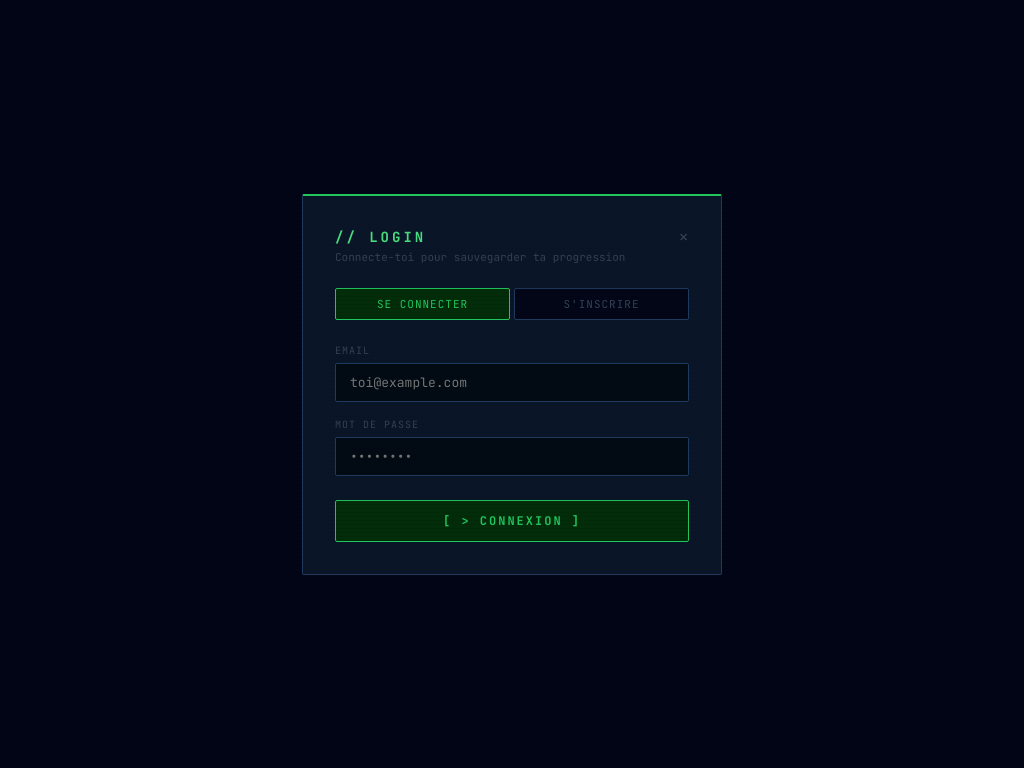
Test: AuthModal — login › affiche l'erreur API en cas d'échec
Type "x@x.com" into the field with placeholder "toi@example.com" at {"x": 512, "y": 382}, box [335,362,689,402]
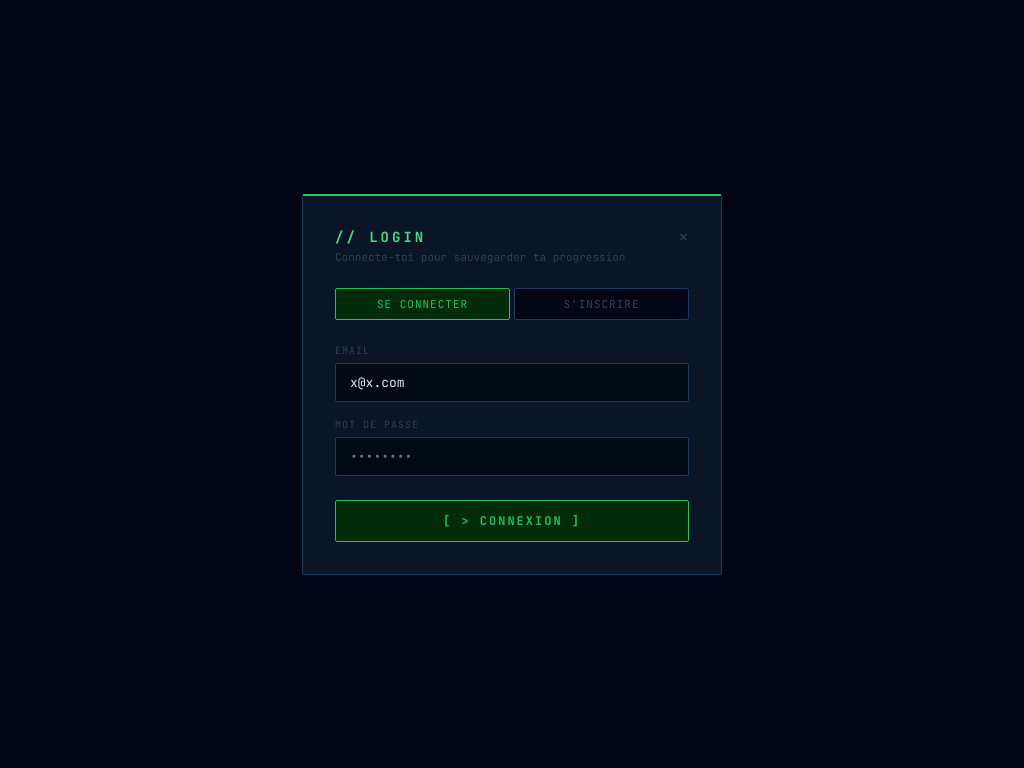
Type "bad" into the password field with placeholder "••••••••" at {"x": 512, "y": 456}, box [335,436,689,476]
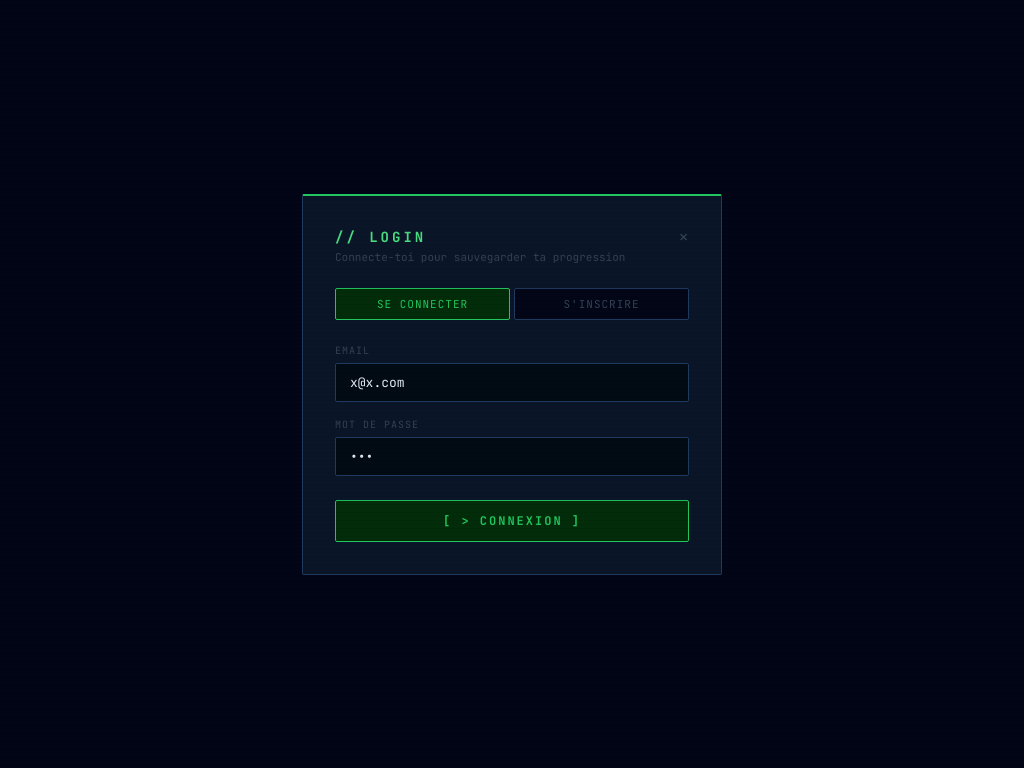
Click the button "[ > CONNEXION ]" at {"x": 512, "y": 520}, box [335,500,689,542]
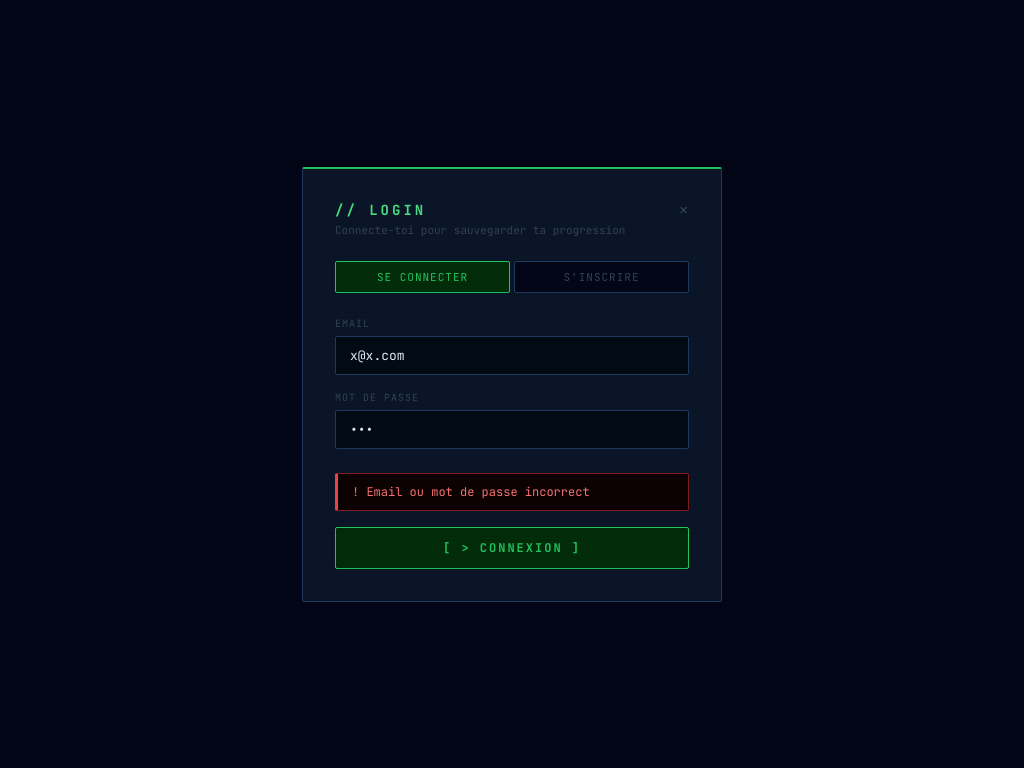
Expected: the text "! Email ou mot de passe incorrect" is shown, [335,472,689,510]
